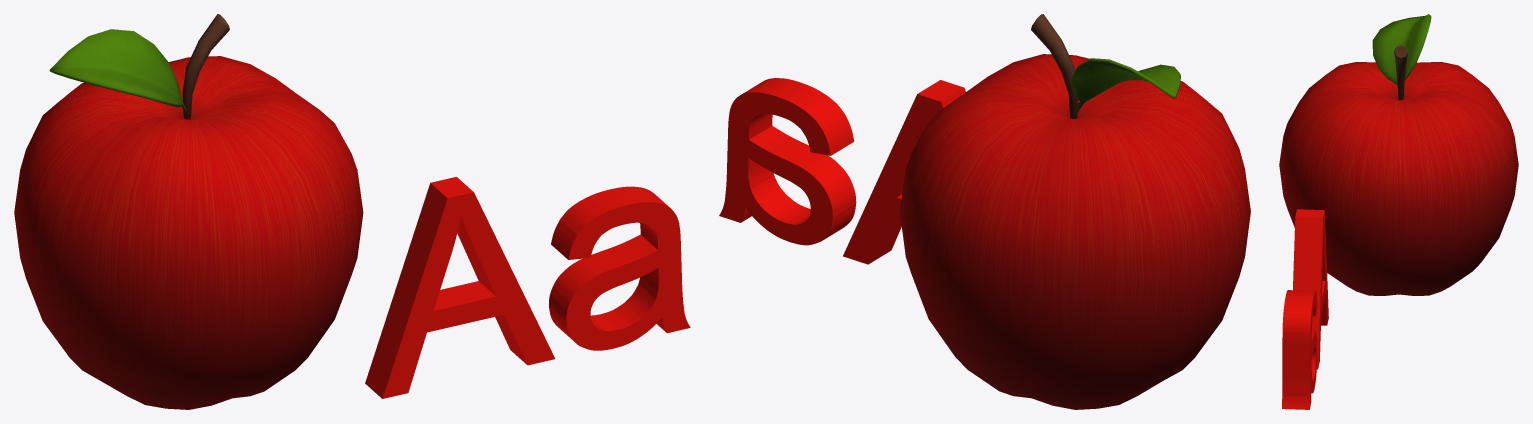
3 views of the same model, side by side, from view 1: azimuth 30°, elevation 25°; view 2: azimuth 150°, elevation 25°; view 3: azimuth 270°, elevation 25° (orthographic). The views are drawn at different scales.
Visible parts, largest first — view 1: Apple, uploads files 2013243 Аа; view 2: Apple, uploads files 2013243 Аа; view 3: Apple, uploads files 2013243 Аа.
Boxes of the visible parts, x1=… form: Apple: x1=14, y1=14, x2=363, y2=409; uploads files 2013243 Аа: x1=365, y1=177, x2=690, y2=398; Apple: x1=900, y1=14, x2=1250, y2=409; uploads files 2013243 Аа: x1=719, y1=78, x2=965, y2=264; Apple: x1=1279, y1=14, x2=1518, y2=295; uploads files 2013243 Аа: x1=1282, y1=209, x2=1328, y2=409.
Bounding box in the file's own units: 39.71 × 24 × 21.04.
2 materials, 1 textured.
